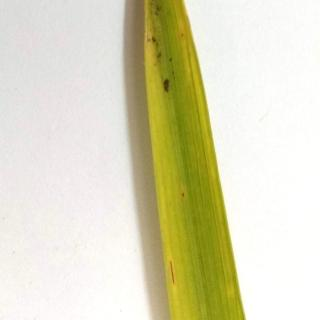bercak-Cokelat: (146, 31, 180, 90), (168, 257, 178, 290)
